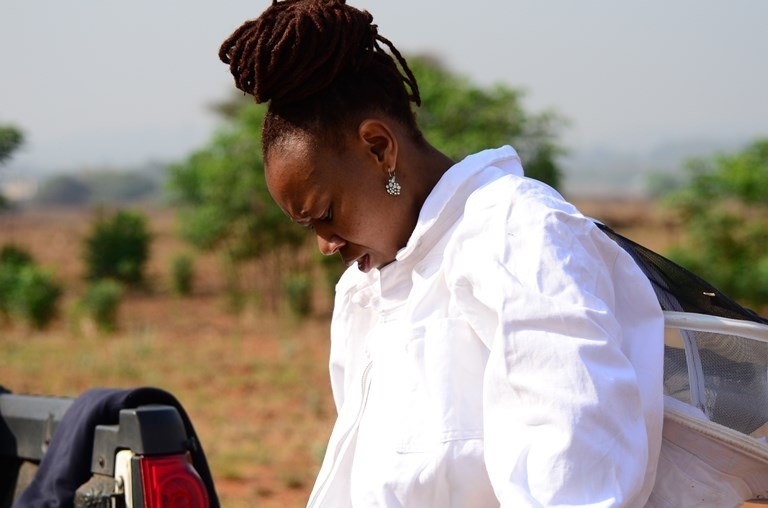face_no_mask: (262, 39, 415, 271)
